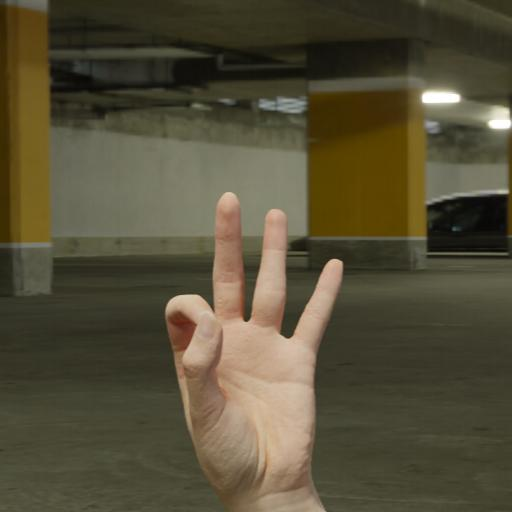F: (118, 169, 392, 495)
